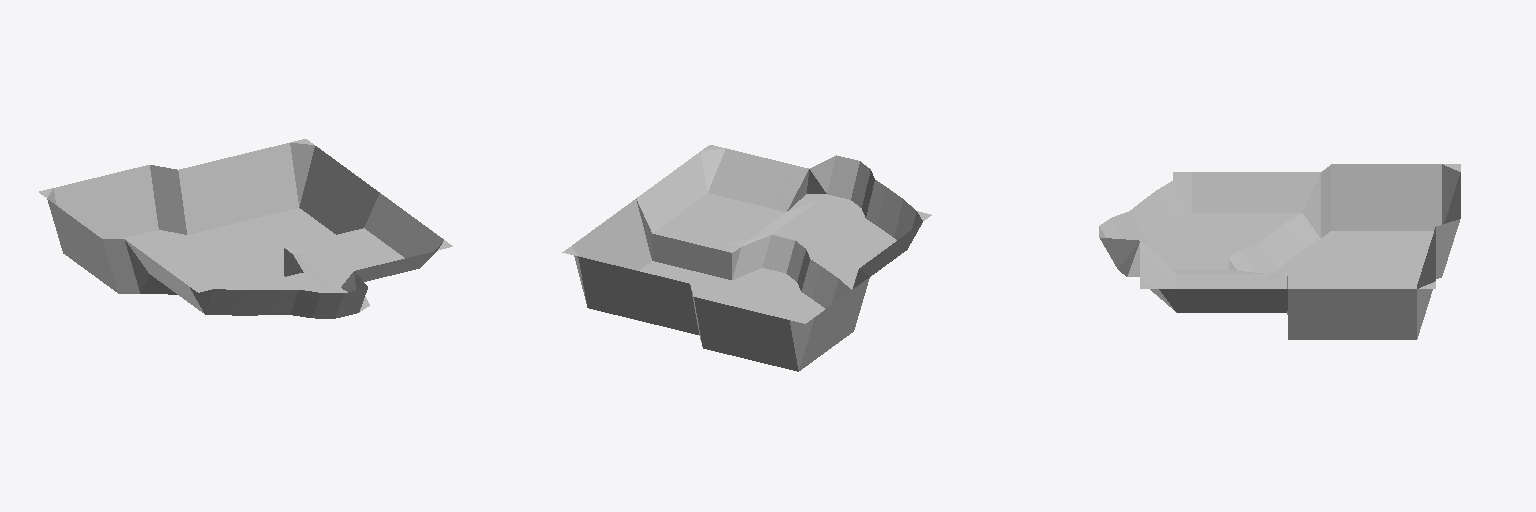
The model's file is testStage.obj.
3 views of the same model, side by side, from view 1: azimuth 30°, elevation 25°; view 2: azimuth 150°, elevation 25°; view 3: azimuth 270°, elevation 25° (orthographic).
Visible parts, largest first — view 1: 平面; view 2: 平面; view 3: 平面.
Part boxes in pixels (left/top/right/bottom): 平面: left=39, top=139, right=452, bottom=318; 平面: left=562, top=145, right=931, bottom=371; 平面: left=1099, top=164, right=1460, bottom=339.
Bounding box in the file's own units: 69.52 × 15.2 × 85.07.